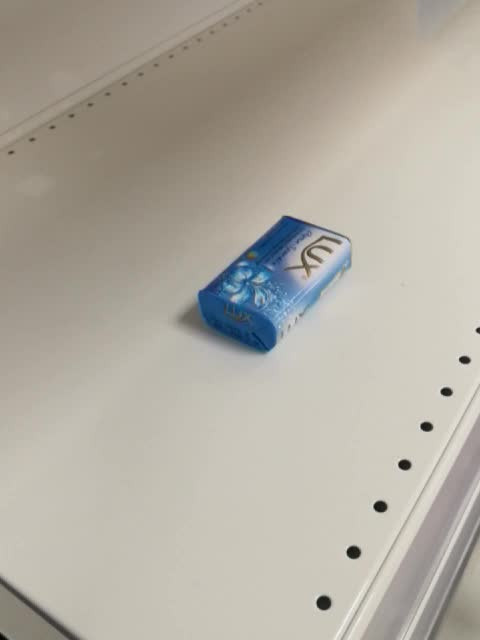soap: (197, 215, 354, 354)
